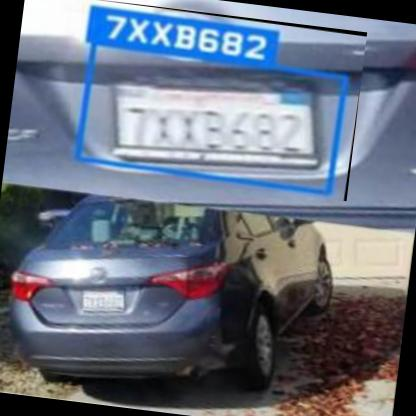Plates: (63, 0, 369, 203)
